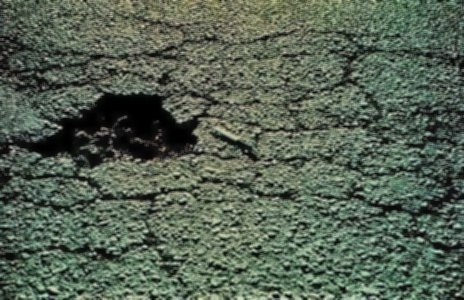pothole: (12, 86, 201, 172)
